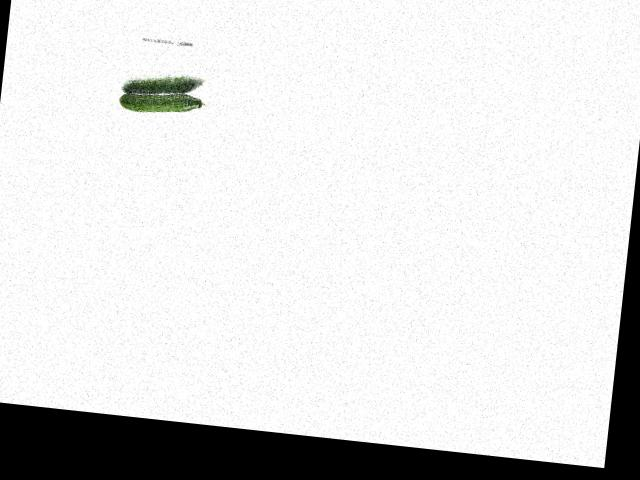cucumber: (119, 86, 206, 118)
